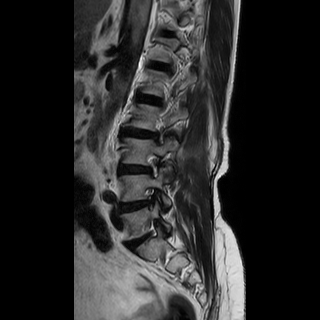LFS0: (141, 147, 165, 183)
LFS3: (139, 182, 165, 214)
